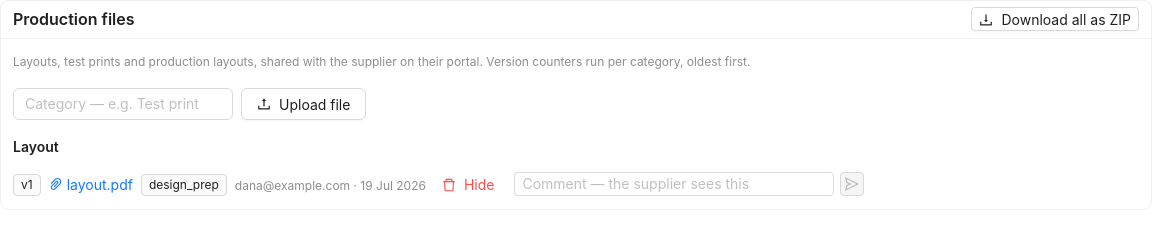
PoFilesCard › hides a file through the Popconfirm and reloads the list
Check: the text "layout.pdf" is shown, box [67,174,133,196]
Step 1. Click the button "Hide" → (468, 184), box [434,172,502,196]
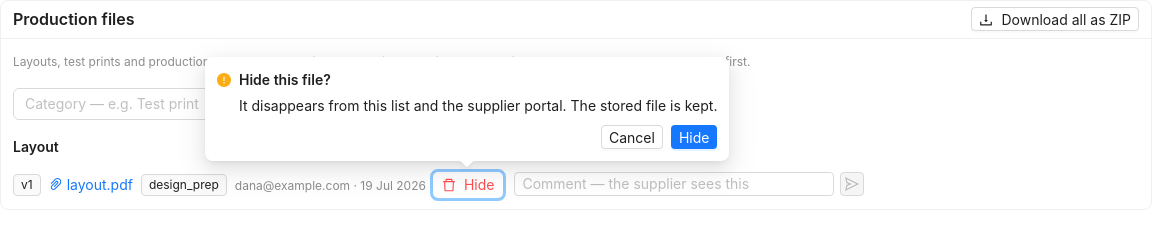
Step 2. Click the 1st button "Hide" → (694, 137), box [671,125,717,149]
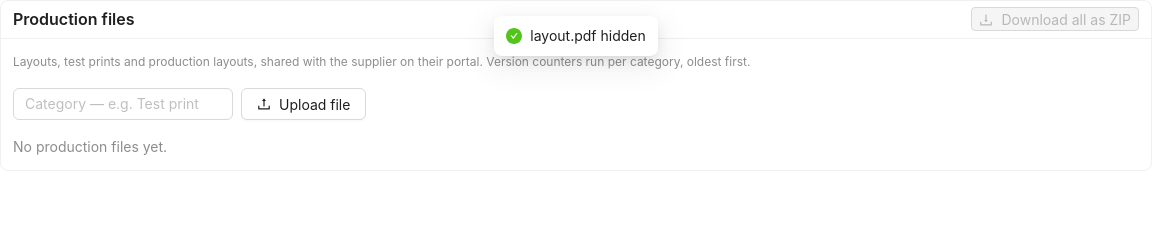
Check: the text "No production files yet." is shown, box [13,138,167,155]
